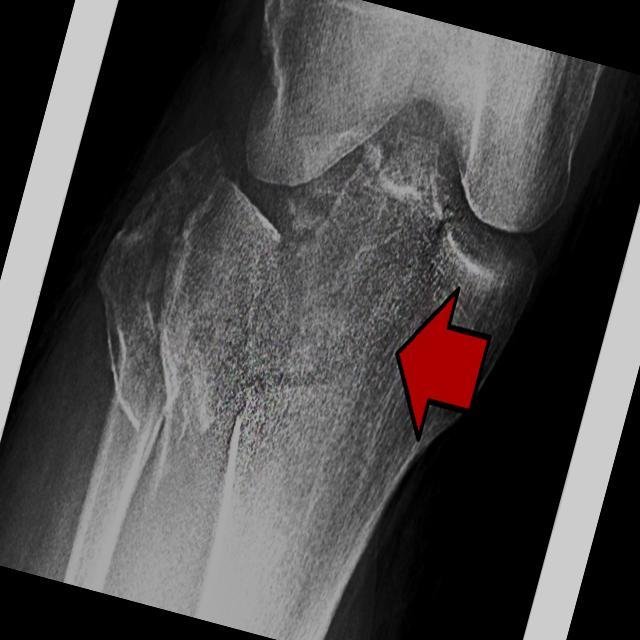Impact Fracture: (249, 347, 335, 408)
